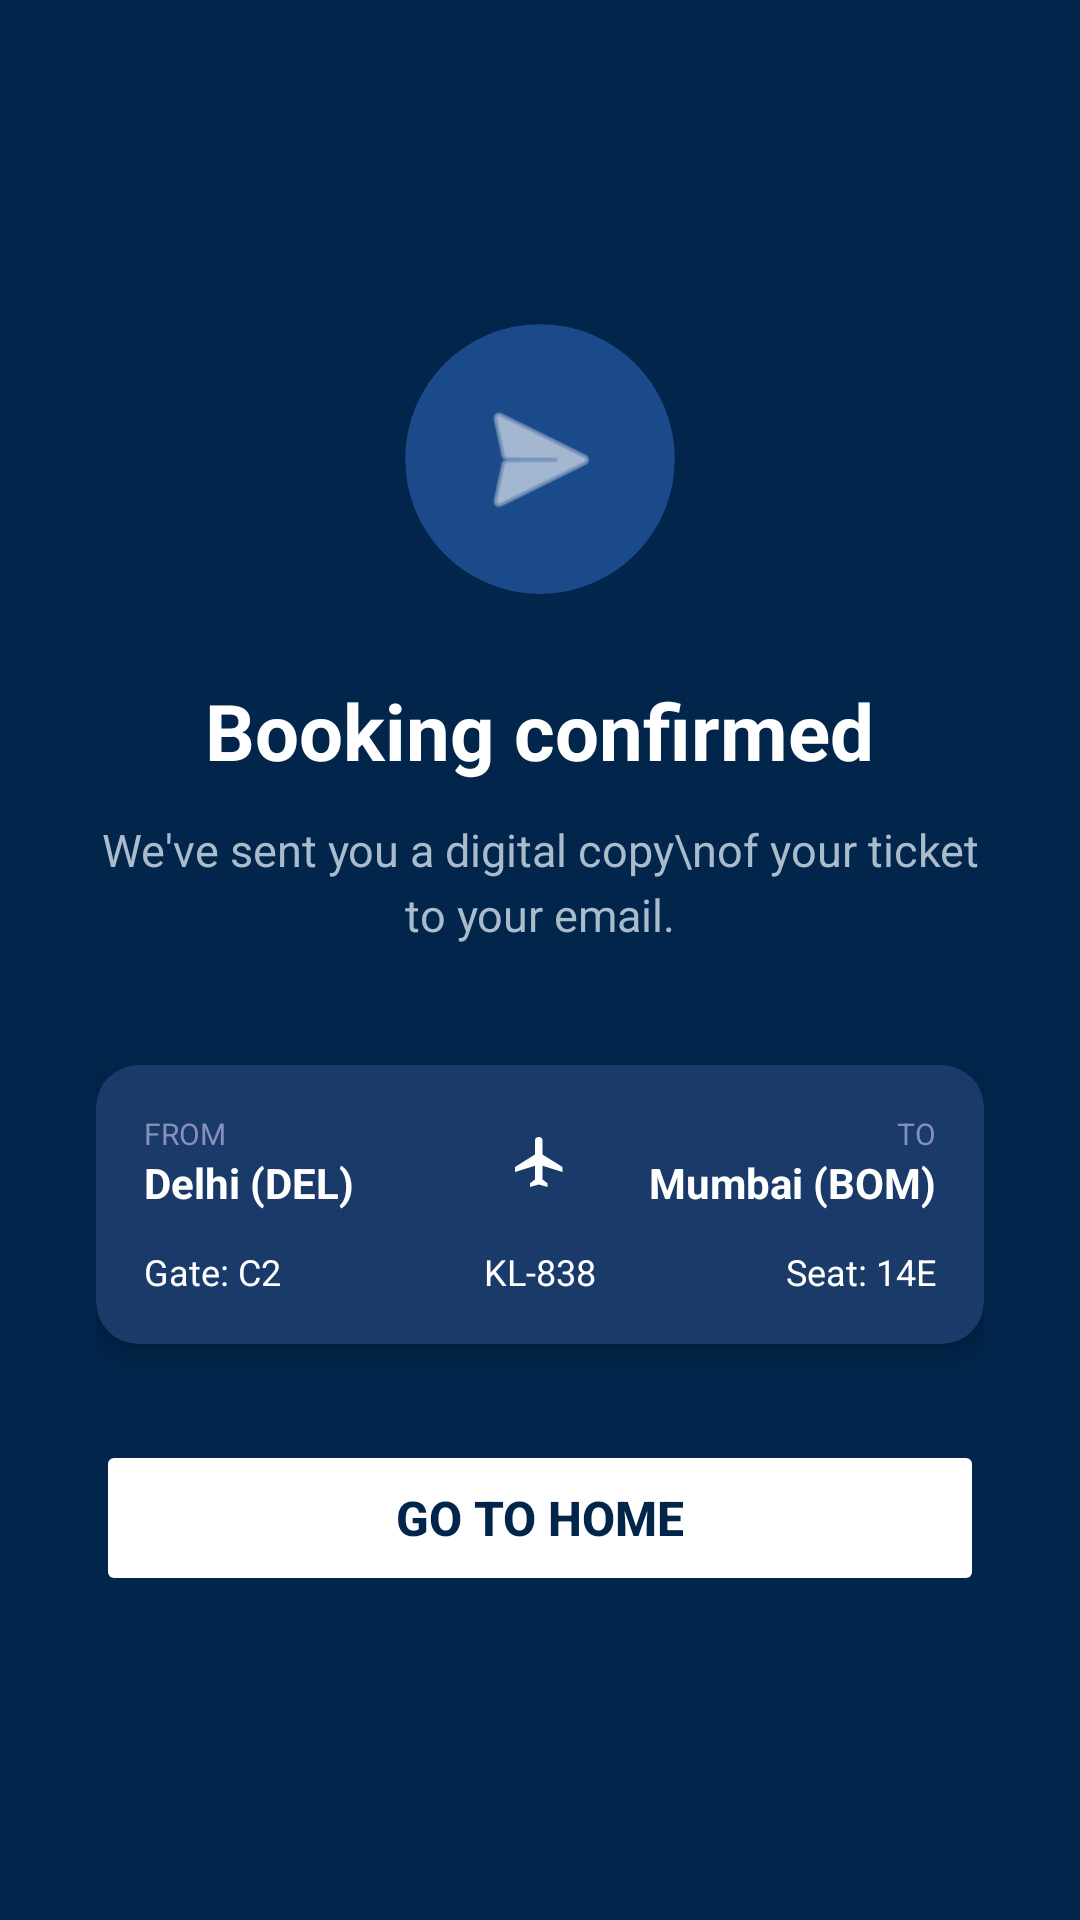

Point at icon controls on the screen. Image size 1080 × 1920, points as [x,y].
plane: [539,1162]
send: [540,459]
